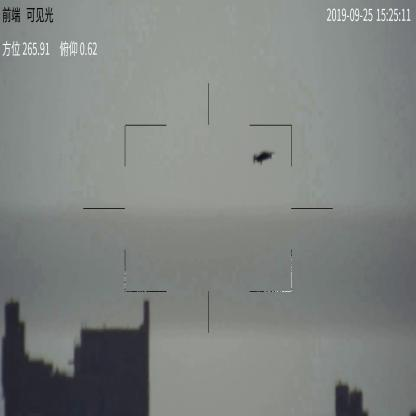uav: (253, 150, 276, 166)
